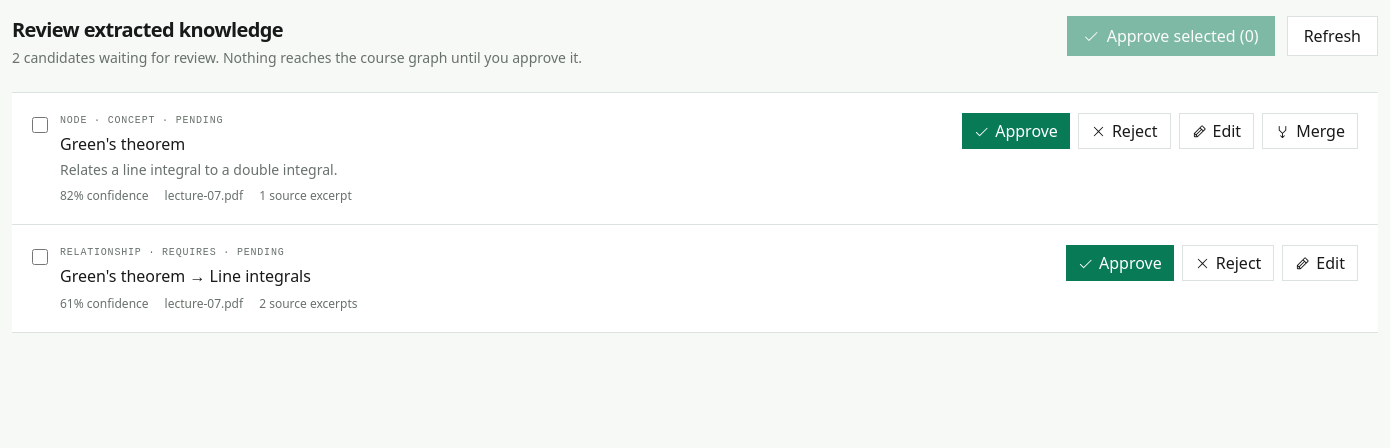
GraphReview › loads source excerpts and related nodes when a candidate is opened
Click the button "Green's theorem". click: (123, 144)
box: [60,132,185,156]
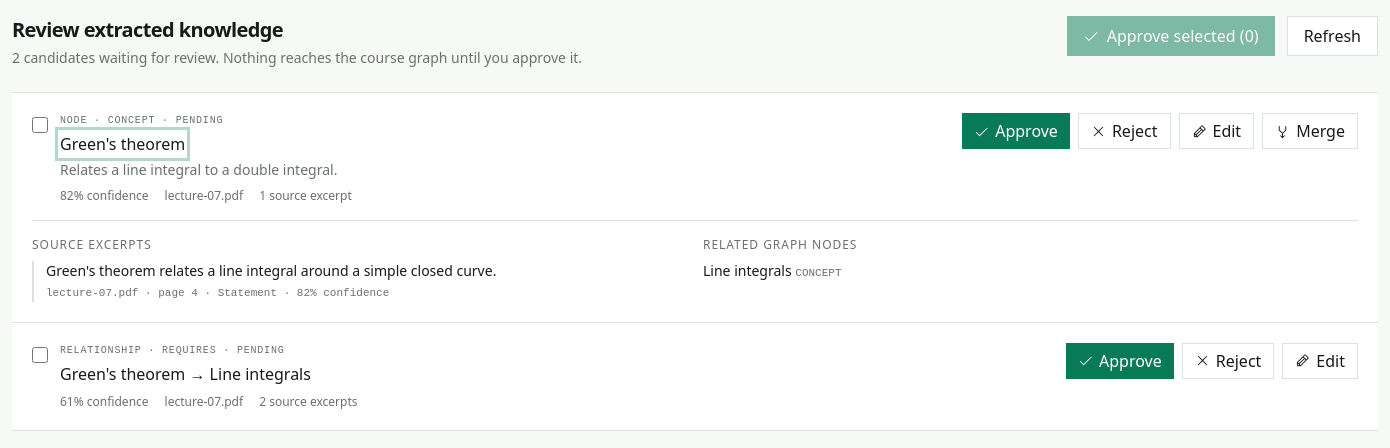
Expected: the text "relates a line integral around a simple closed curve" is shown, [46,261,496,280]
Expected: the text "lecture-07.pdf · page 4 · Statement · 82% confidence" is shown, [46,287,389,299]
Expected: the heading "Related graph nodes" is shown, [703,236,857,253]
